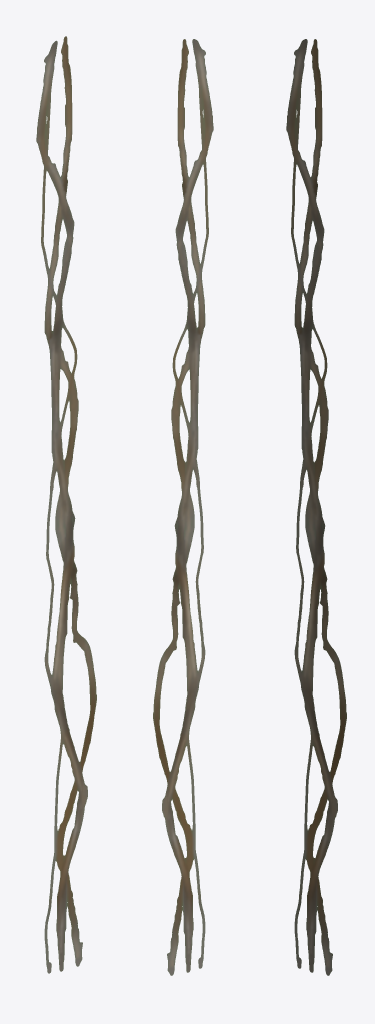
The model's file is BgMD_vine01_01.fbx.
3 views of the same model, side by side, from view 1: azimuth 30°, elevation 25°; view 2: azimuth 210°, elevation 25°; view 3: azimuth 330°, elevation 25° (orthographic).
Parts seen in each view (by area): view 1: BgMD_vine01_01; view 2: BgMD_vine01_01; view 3: BgMD_vine01_01.
Boxes of the visible parts, <box> form: BgMD_vine01_01: <box>36,36,96,973</box>; BgMD_vine01_01: <box>153,39,213,975</box>; BgMD_vine01_01: <box>286,39,346,975</box>.
Size of the model in its own units: 5.2 by 50.48 by 2.13e-14.
